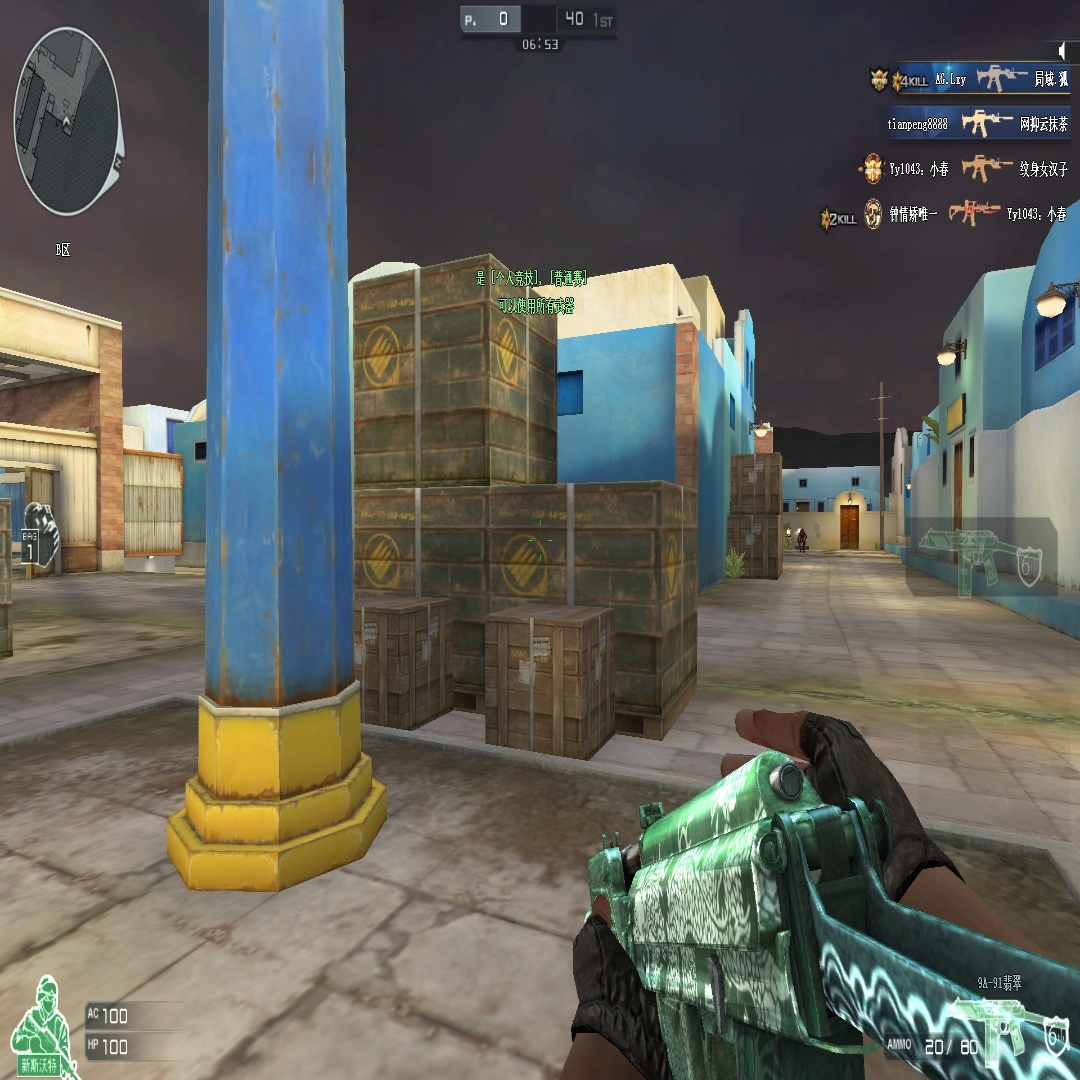p: (796, 527, 808, 552)
